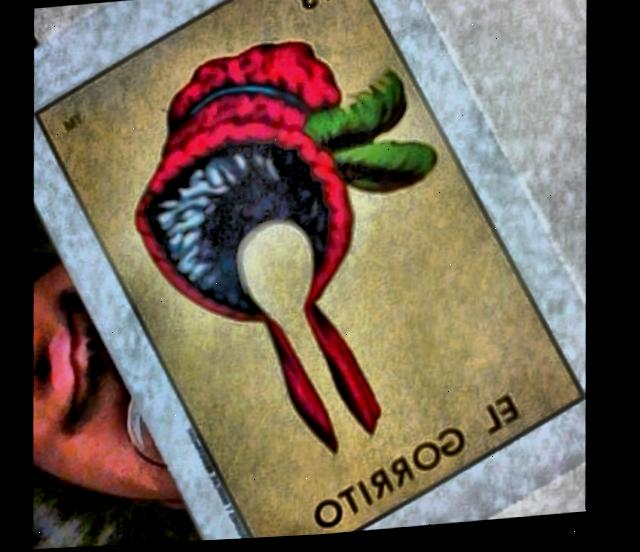El Gorrito: (35, 0, 584, 541)
